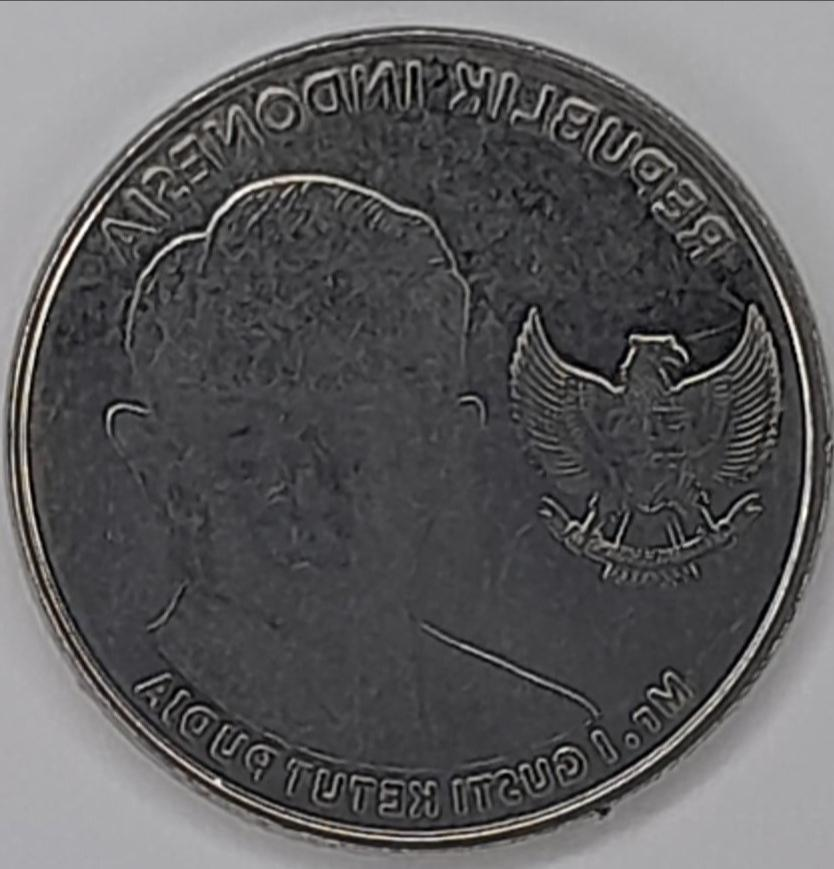coin_1000_e2016: (14, 17, 823, 869)
